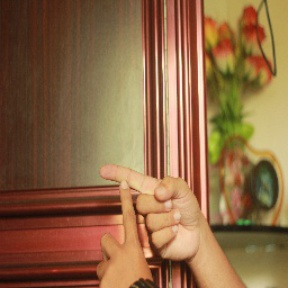T: (87, 157, 174, 272)
